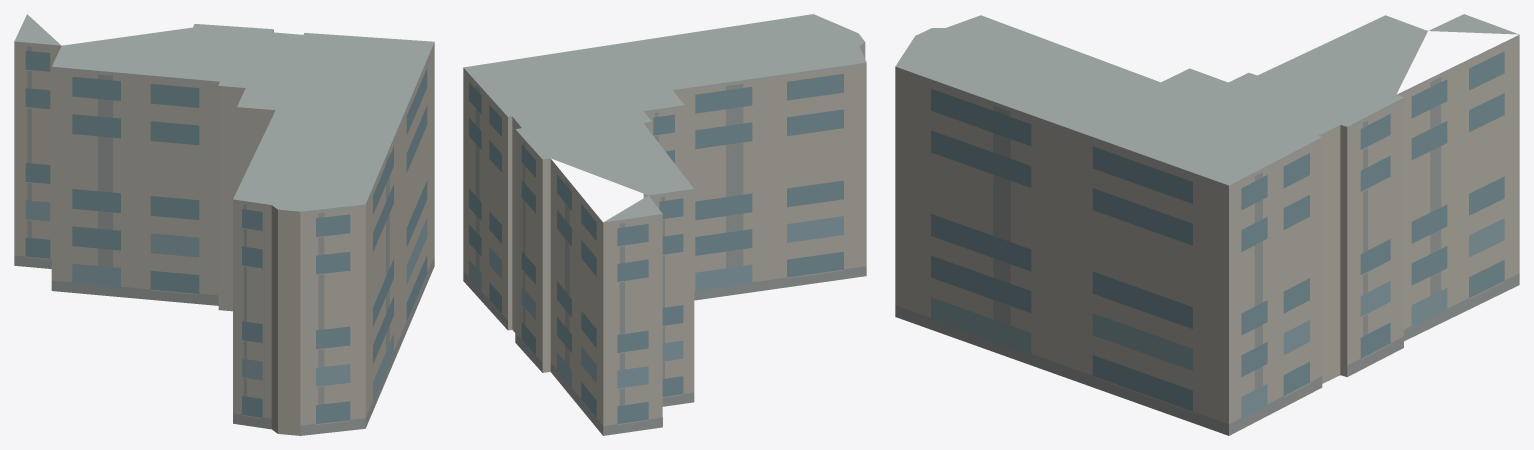
The model's file is survey-upis-32674614.glb.
3 views of the same model, side by side, from view 1: azimuth 30°, elevation 25°; view 2: azimuth 150°, elevation 25°; view 3: azimuth 270°, elevation 25° (orthographic). The views are drawn at different scales.
Parts seen in each view (by area): view 1: survey-upis-32674614.tmp; view 2: survey-upis-32674614.tmp; view 3: survey-upis-32674614.tmp.
Boxes of the visible parts, x1,y1,x2,y2 form: survey-upis-32674614.tmp: (14,14,434,435); survey-upis-32674614.tmp: (463,14,866,435); survey-upis-32674614.tmp: (895,14,1519,435).
Bounding box in the file's own units: 21.61 × 14.7 × 33.24.
